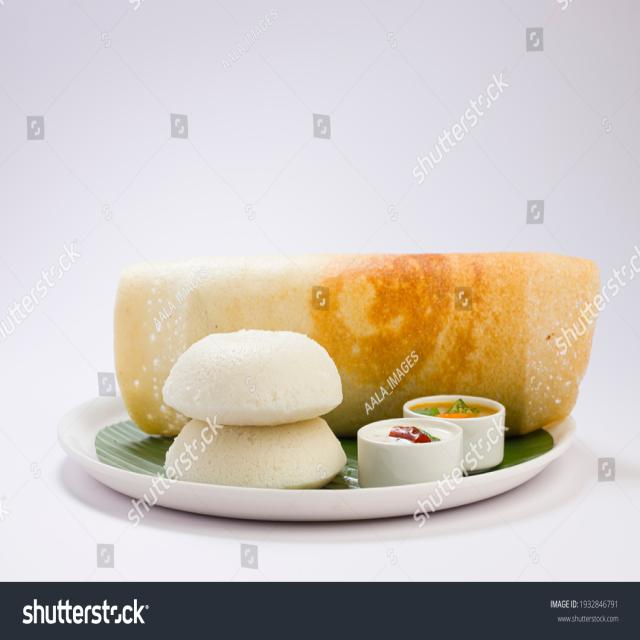DOSA: (112, 256, 600, 437)
IDLI: (158, 331, 349, 486)
